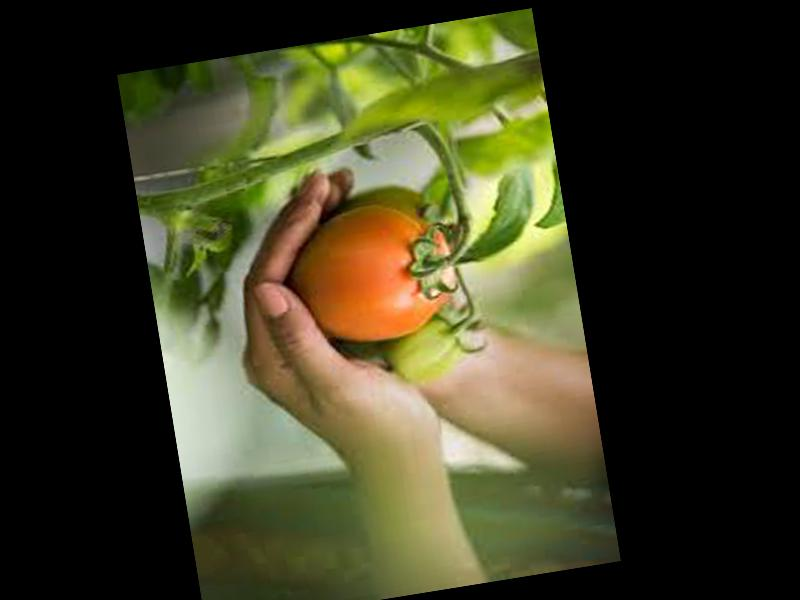Tomato: (289, 196, 461, 351)
